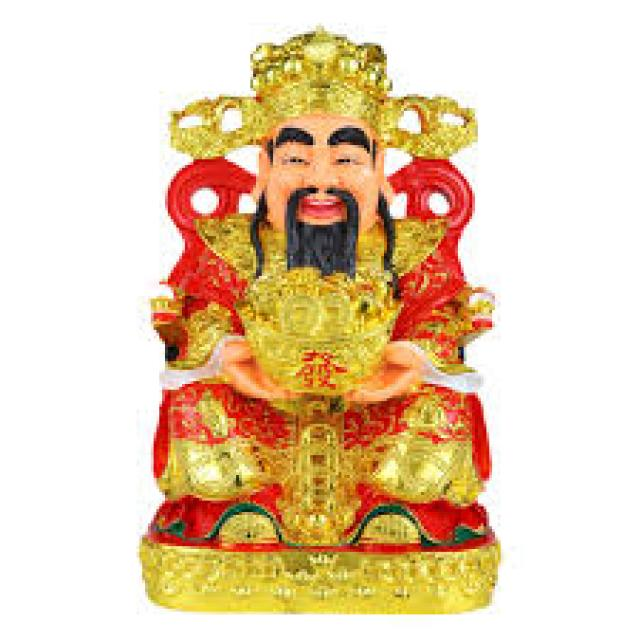Cai shen: (145, 23, 476, 546)
